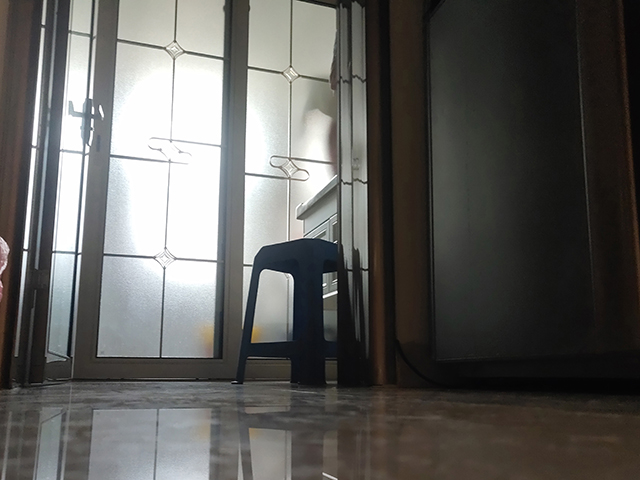stool: (229, 237, 342, 391)
wire: (392, 337, 470, 392)
